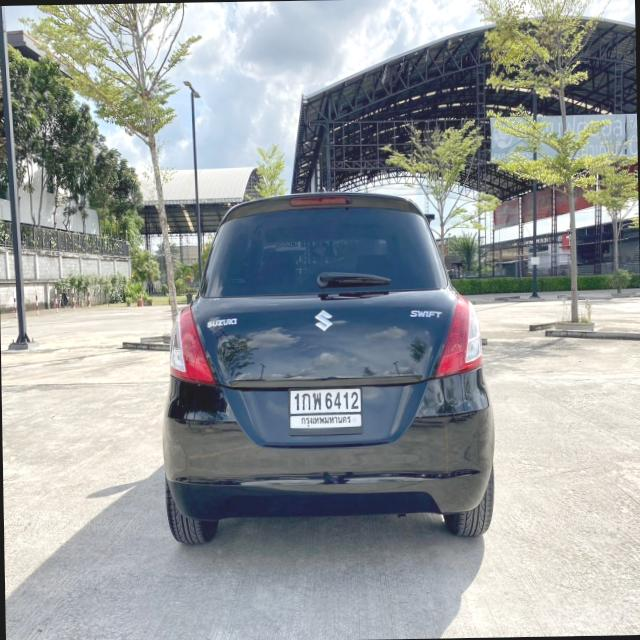license_plate: (287, 382, 364, 435)
